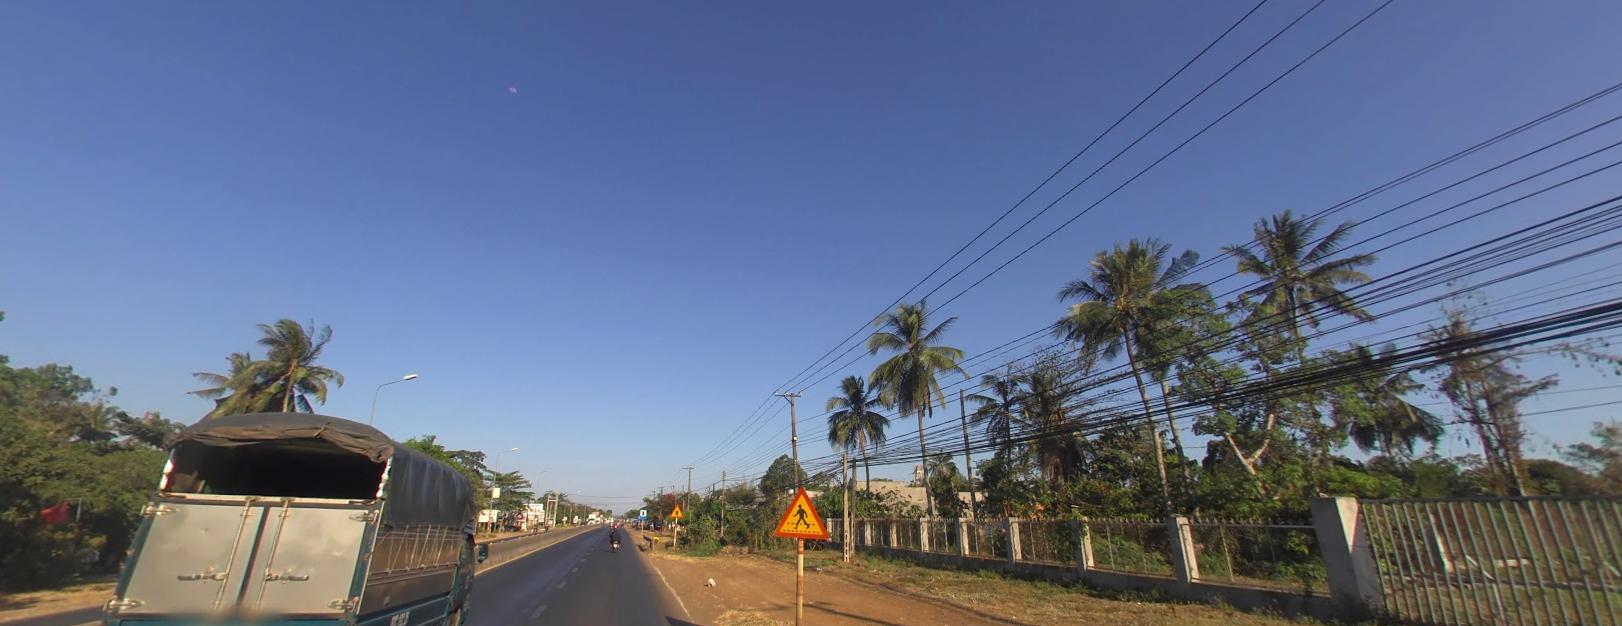Nguy hiem: (768, 480, 834, 544), (669, 502, 684, 519)
